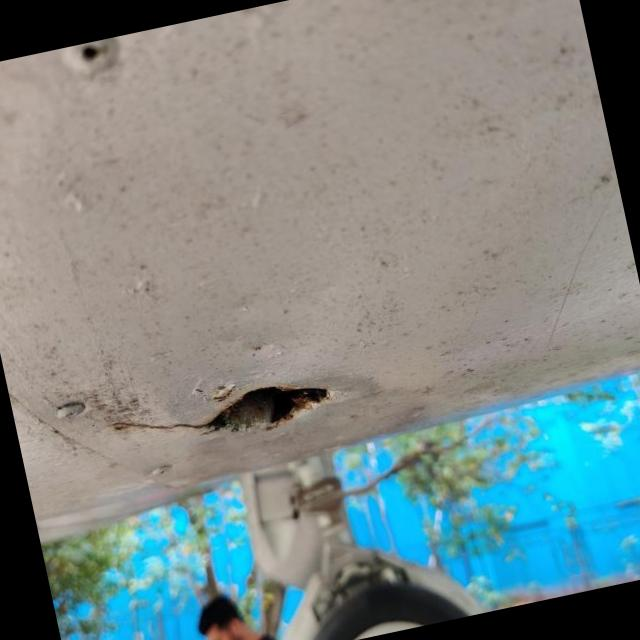Crack: (183, 386, 329, 433)
